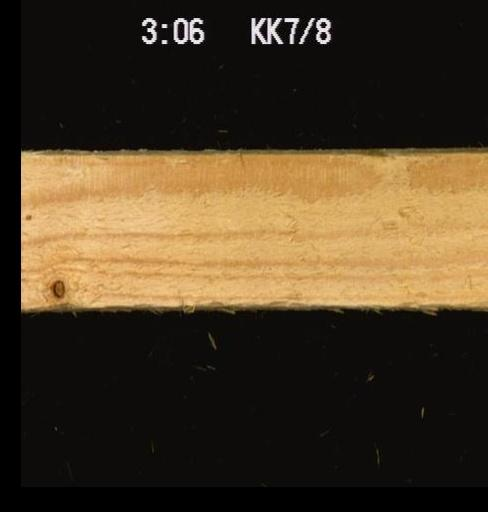dry_knot: (47, 277, 72, 301)
